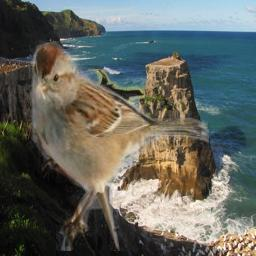Crow: (66, 69, 145, 119)
Sparrow: (26, 39, 209, 251)
